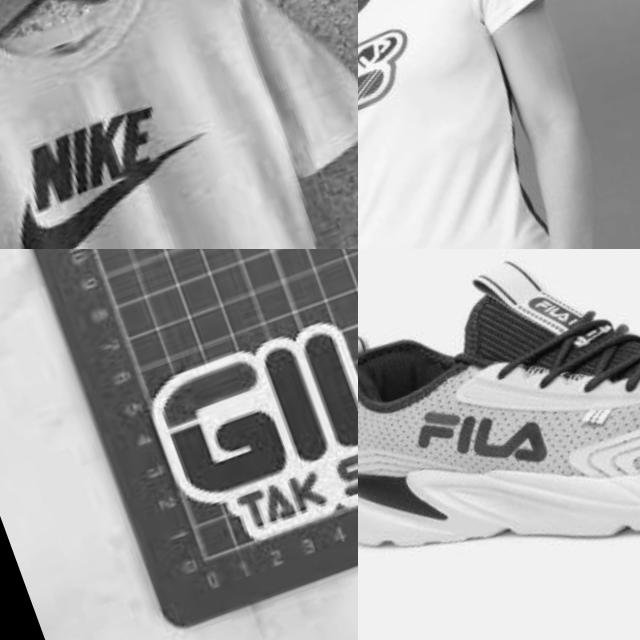FILA_fake: (111, 249, 358, 577)
FILA_original: (392, 366, 562, 515), (358, 8, 450, 171)
NIKE_original: (0, 57, 263, 249)
